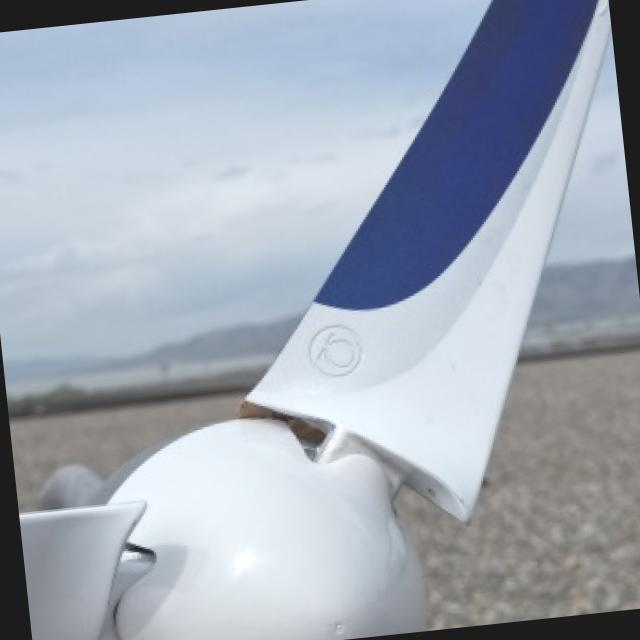healthy: (0, 0, 609, 640)
